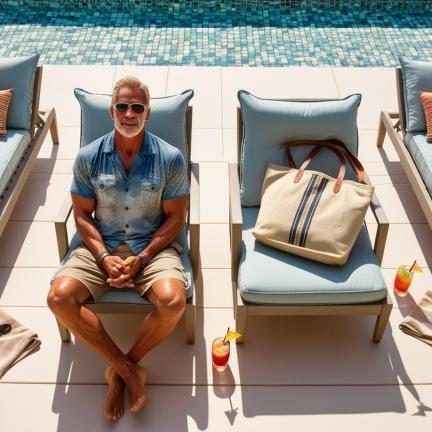guest on chair: (47, 76, 199, 420)
occupied chair: (230, 90, 392, 342)
